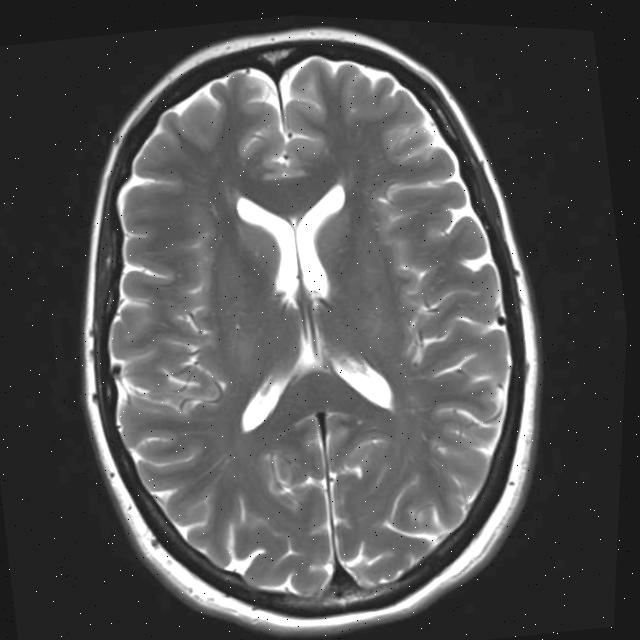NoTumor: (18, 2, 593, 640)
